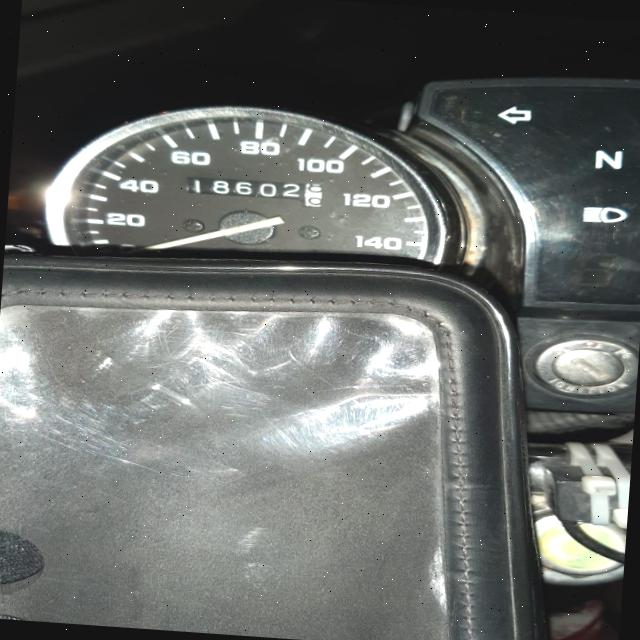odometer: (180, 172, 328, 210)
